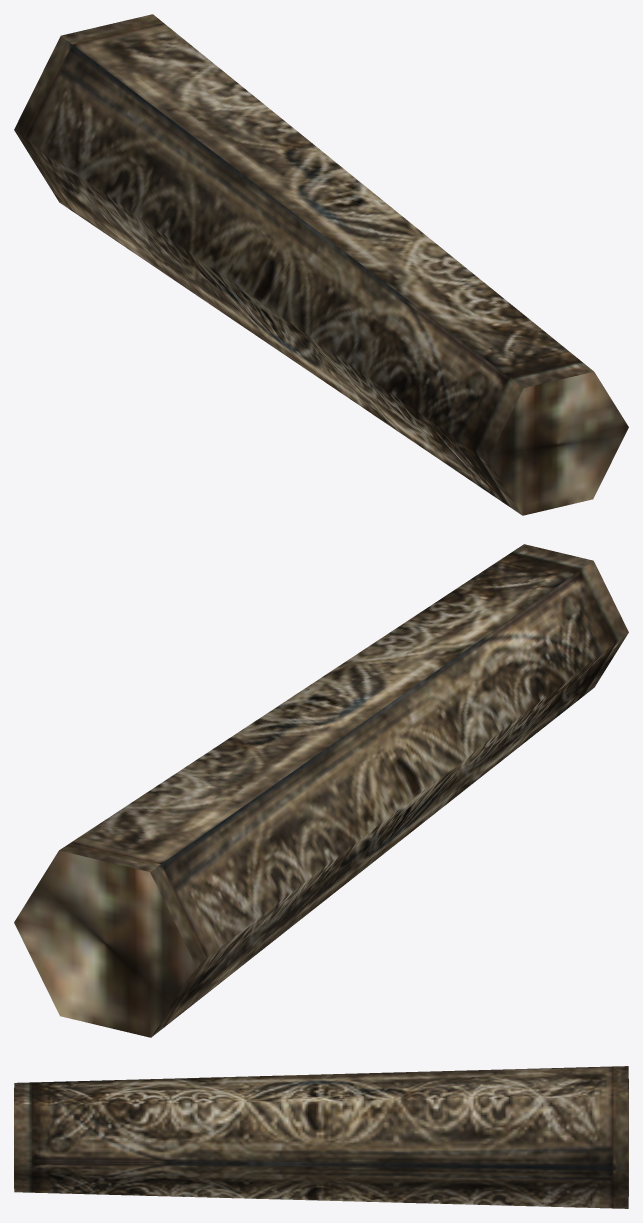
Rendered from column-destr_02.obj.
3 renders of one model, top to bottom at view 1: azimuth 30°, elevation 25°; view 2: azimuth 150°, elevation 25°; view 3: azimuth 270°, elevation 25°, orthographic. The views are drawn at different scales.
Visible parts, largest first — view 1: (null); view 2: (null); view 3: (null).
Boxes of the visible parts, box(x1,y1,x2,y2) form: (null): box(14, 14, 628, 515); (null): box(14, 544, 628, 1037); (null): box(14, 1066, 628, 1208).
Bounding box in the file's own units: 0.5159 × 0.4488 × 2.21.
